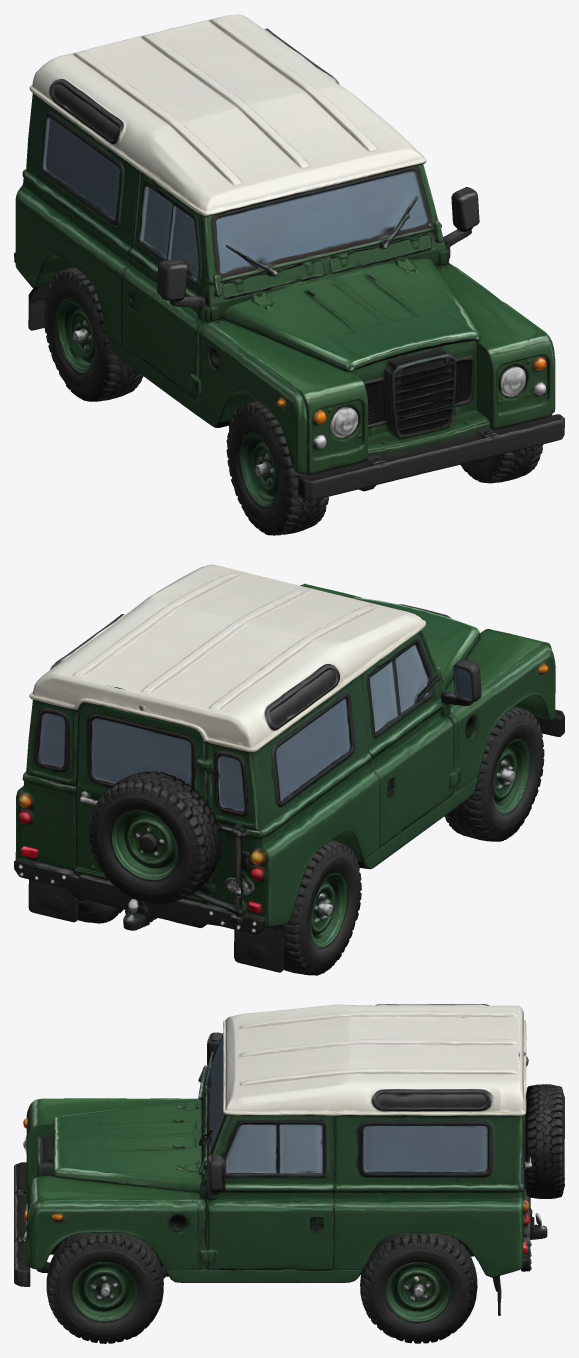
Rendered from land_rover_series3.glb.
3 renders of one model, top to bottom at view 1: azimuth 30°, elevation 25°; view 2: azimuth 150°, elevation 25°; view 3: azimuth 270°, elevation 25°, orthographic. The views are drawn at different scales.
Parts seen in each view (by area): view 1: tripo_part_1, tripo_part_3, tripo_part_5, tripo_part_7, tripo_part_26, tripo_part_8, tripo_part_24, tripo_part_25, tripo_part_17, tripo_part_33, tripo_part_10, tripo_part_0 (+5 smaller); view 2: tripo_part_1, tripo_part_3, tripo_part_4, tripo_part_5, tripo_part_24, tripo_part_25, tripo_part_13, tripo_part_27, tripo_part_7, tripo_part_16, tripo_part_10, tripo_part_15 (+6 smaller); view 3: tripo_part_1, tripo_part_26, tripo_part_5, tripo_part_27, tripo_part_7, tripo_part_2, tripo_part_0, tripo_part_4, tripo_part_12, tripo_part_3, tripo_part_34, tripo_part_39 (+5 smaller).
Boxes of the visible parts, x1,y1,x2,y2 form: tripo_part_1: [22, 14, 426, 257]; tripo_part_3: [14, 179, 368, 474]; tripo_part_5: [131, 164, 450, 327]; tripo_part_7: [223, 258, 488, 455]; tripo_part_26: [436, 262, 555, 429]; tripo_part_8: [364, 347, 474, 439]; tripo_part_24: [44, 266, 143, 401]; tripo_part_25: [226, 400, 328, 535]; tripo_part_17: [298, 444, 447, 499]; tripo_part_33: [431, 414, 564, 469]; tripo_part_10: [240, 431, 278, 512]; tripo_part_0: [460, 444, 543, 483]; tripo_part_1: [22, 564, 425, 910]; tripo_part_3: [202, 629, 555, 927]; tripo_part_4: [88, 771, 221, 903]; tripo_part_5: [362, 629, 454, 766]; tripo_part_24: [281, 840, 361, 975]; tripo_part_25: [444, 706, 544, 841]; tripo_part_13: [14, 857, 265, 934]; tripo_part_27: [15, 781, 76, 870]; tripo_part_7: [351, 597, 480, 690]; tripo_part_16: [121, 814, 175, 871]; tripo_part_10: [493, 736, 532, 816]; tripo_part_15: [234, 925, 285, 972]; tripo_part_1: [223, 1004, 532, 1236]; tripo_part_26: [23, 1176, 361, 1282]; tripo_part_5: [198, 1035, 335, 1219]; tripo_part_27: [334, 1191, 528, 1277]; tripo_part_7: [53, 1099, 201, 1193]; tripo_part_2: [360, 1232, 477, 1343]; tripo_part_0: [46, 1232, 163, 1343]; tripo_part_4: [524, 1084, 564, 1198]; tripo_part_12: [70, 1261, 139, 1324]; tripo_part_3: [23, 1098, 198, 1188]; tripo_part_34: [393, 1267, 443, 1311]; tripo_part_39: [386, 1262, 451, 1322].
Size of the model in its own units: 0.5694 by 0.5055 by 0.9999.
1 material, 1 textured.
